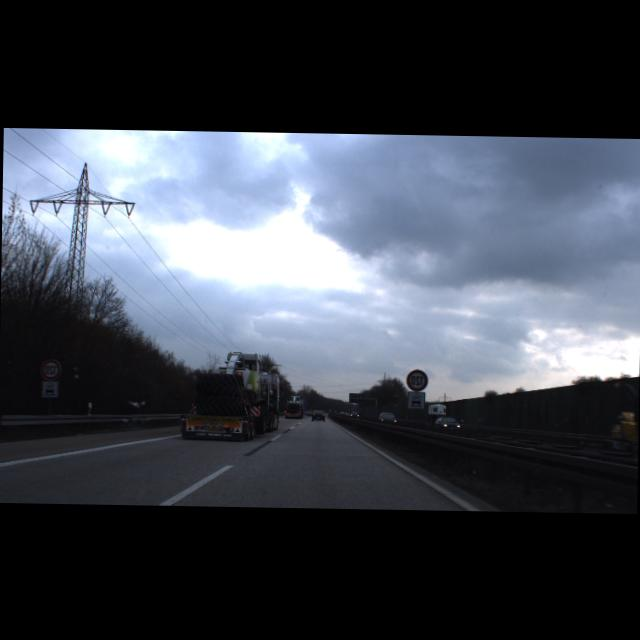prohibitory: (406, 368, 428, 391), (39, 358, 61, 380)
